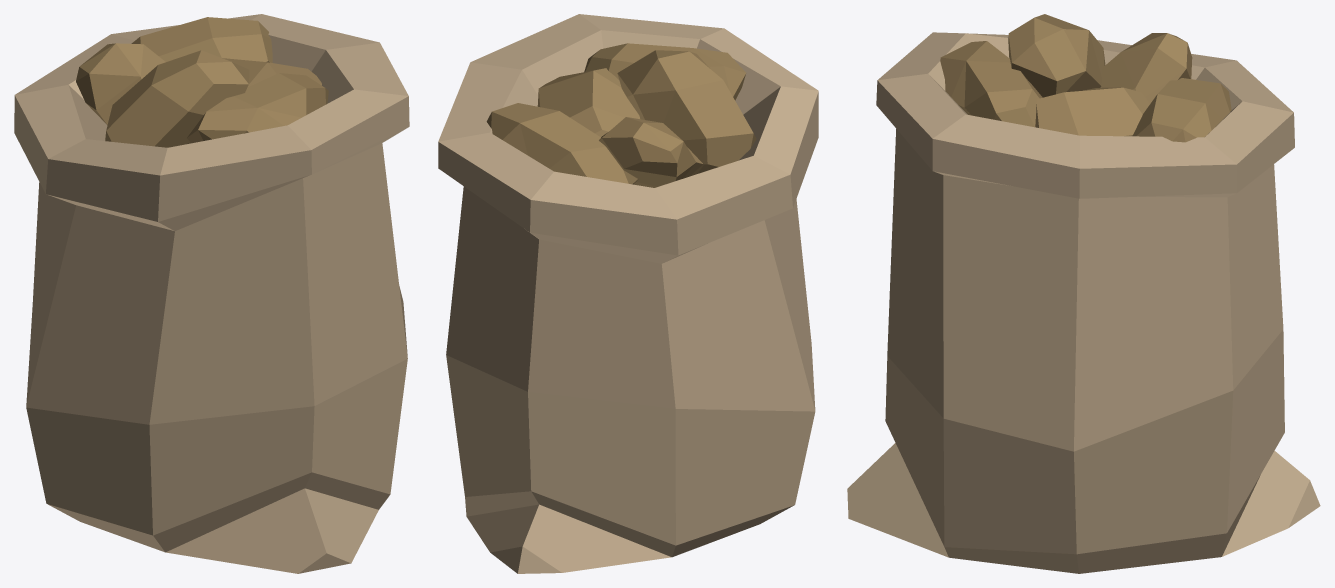
The model's file is SM_Prop_Sack_05.glb.
3 views of the same model, side by side, from view 1: azimuth 30°, elevation 25°; view 2: azimuth 150°, elevation 25°; view 3: azimuth 270°, elevation 25° (orthographic). The views are drawn at different scales.
Parts seen in each view (by area): view 1: SM_Prop_Sack_05; view 2: SM_Prop_Sack_05; view 3: SM_Prop_Sack_05.
Boxes of the visible parts, x1=… form: SM_Prop_Sack_05: x1=14, y1=14, x2=409, y2=573; SM_Prop_Sack_05: x1=438, y1=14, x2=818, y2=573; SM_Prop_Sack_05: x1=847, y1=14, x2=1320, y2=573.
Size of the model in its own units: 0.4608 by 0.5278 by 0.4831.
1 material, 1 textured.
